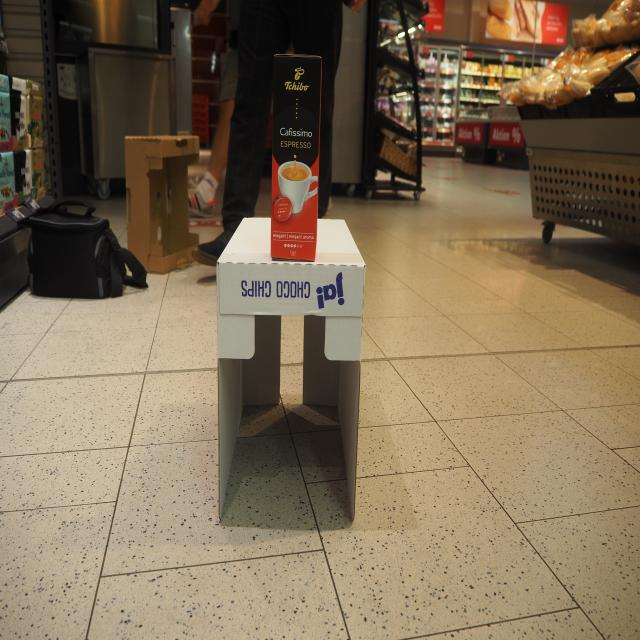Simo Es Elegant: (269, 52, 324, 265)
